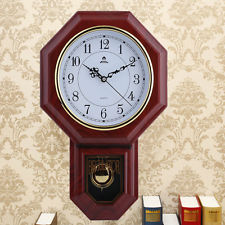clock: (58, 29, 149, 129)
